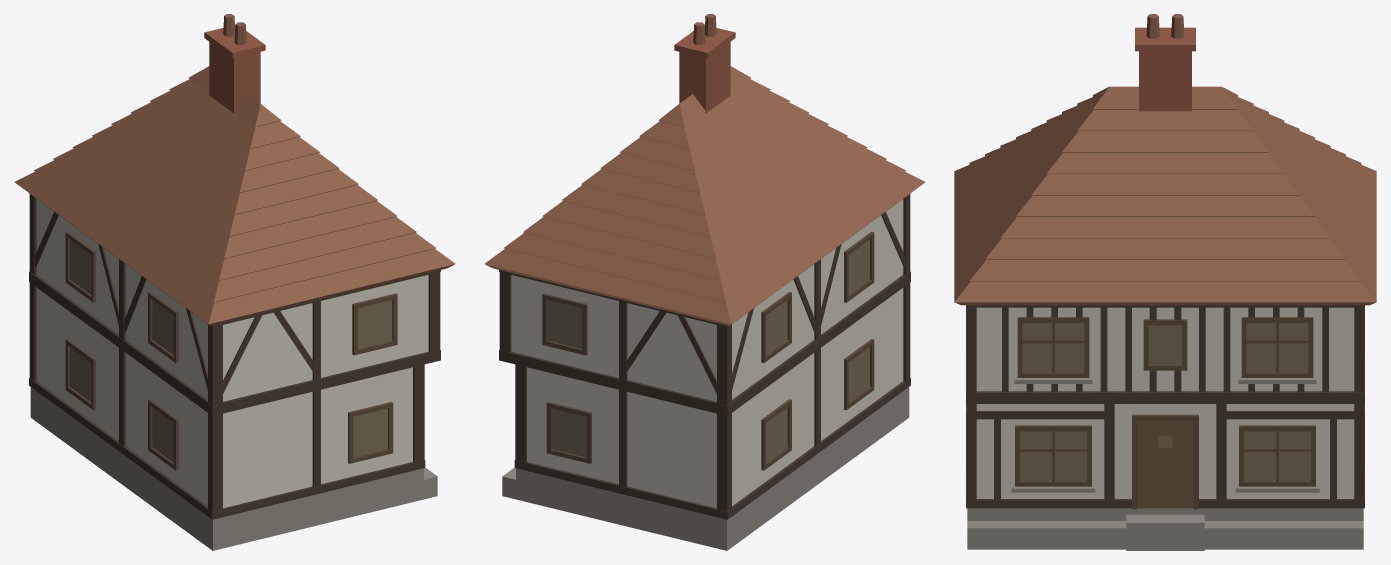
Rendered from house_twostorey_b.glb.
The picture shows the model from 3 angles, left to right: view 1: azimuth 30°, elevation 25°; view 2: azimuth 150°, elevation 25°; view 3: azimuth 270°, elevation 25°; orthographic projection. The views are drawn at different scales.
Visible parts, largest first — view 1: house_twostorey_b_lod0; view 2: house_twostorey_b_lod0; view 3: house_twostorey_b_lod0.
Boxes of the visible parts, bbox=[...] form: house_twostorey_b_lod0: bbox=[14, 14, 455, 550]; house_twostorey_b_lod0: bbox=[484, 14, 925, 550]; house_twostorey_b_lod0: bbox=[954, 14, 1376, 550].
Size of what is drawn, in the model's own units: 5.54 by 9.35 by 7.54.
